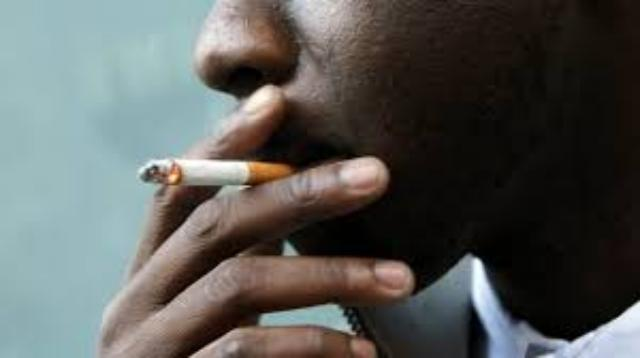Smoking: (138, 159, 300, 188)
